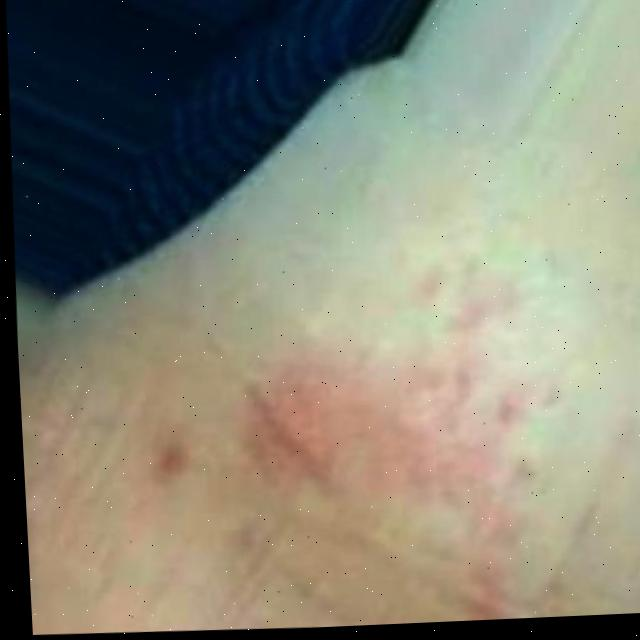Shingles: (253, 356, 524, 503)
